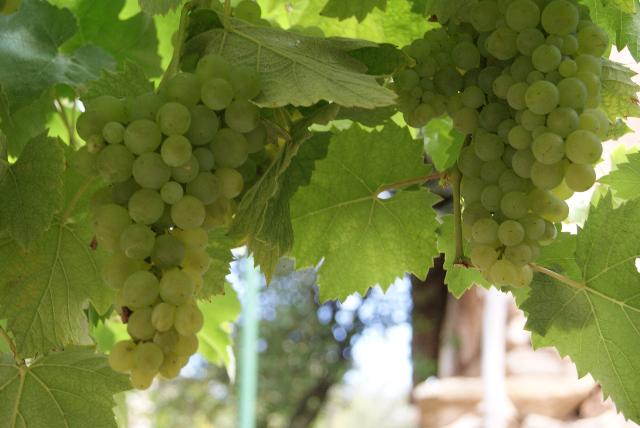grapes: (74, 55, 268, 389), (432, 0, 610, 289), (394, 21, 460, 129)
